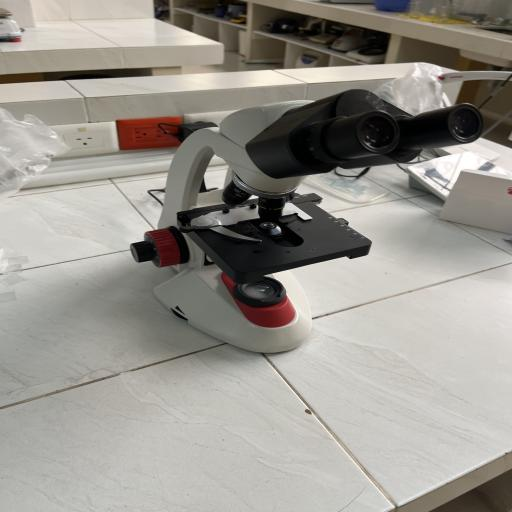Microscopio_Binocular: (124, 84, 493, 357)
